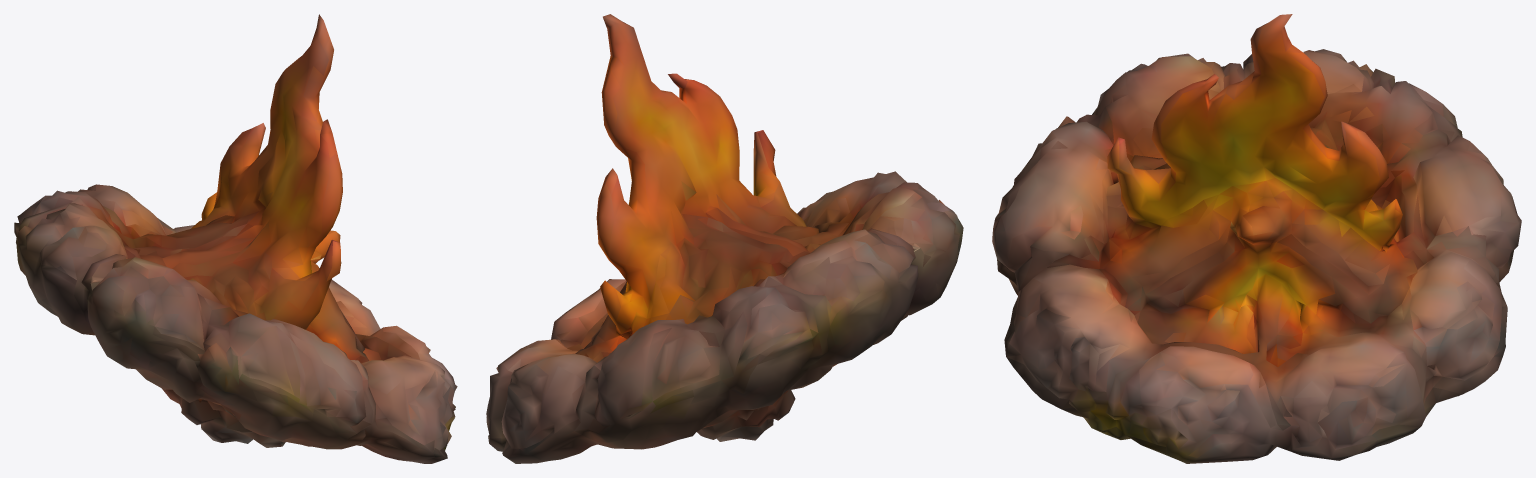
The model's file is campfire.glb.
3 renders of one model, left to right at view 1: azimuth 30°, elevation 25°; view 2: azimuth 150°, elevation 25°; view 3: azimuth 270°, elevation 25°, orthographic. The views are drawn at different scales.
Visible parts, largest first — view 1: model; view 2: model; view 3: model.
Part boxes in pixels (<box>): model: <box>14,14,457,463</box>; model: <box>486,14,963,463</box>; model: <box>992,14,1521,463</box>.
Size of the model in its own units: 1.33 by 1.39 by 1.6.
Materials: 1 (1 with a texture image).
